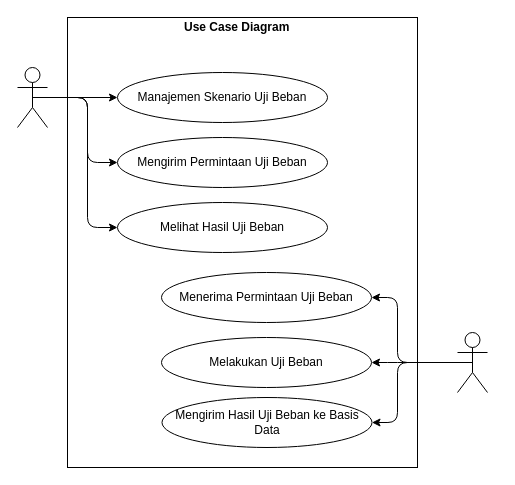
The diagram is 515 pixels wide and 485 high, and some of its shapes have lost their labels. Here are the shapes that lost their labels. From the top down, the centre of each, then its label:
pixel 32 97: User
pixel 472 362: Kontainer
